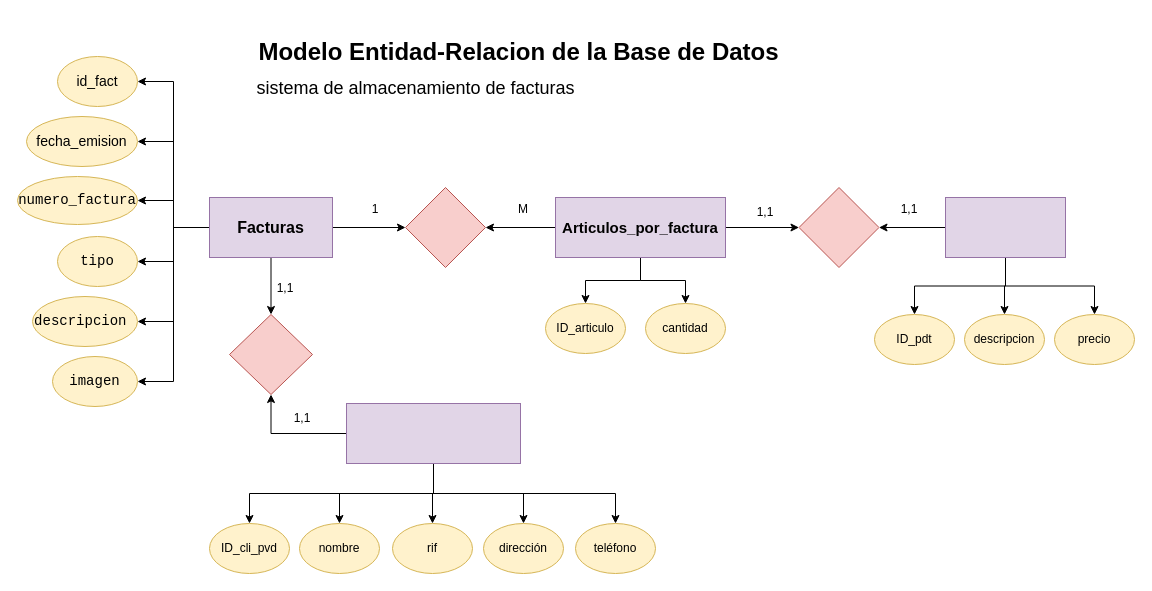
This 1152x591 diagram has some shape labels left out. Each missing label, with the centre of its shape:
"clientes_proveedores" goes at (x=433, y=433).
"es un" goes at (x=838, y=227).
"pertenece" goes at (x=270, y=354).
"Productos" goes at (x=1005, y=227).
"tiene" goes at (x=445, y=227).
